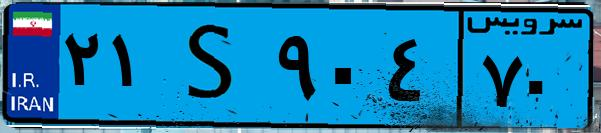0: (330, 28, 385, 110), (525, 38, 570, 115)
1: (110, 28, 158, 98)
2: (57, 26, 110, 100)
4: (385, 28, 445, 110)
7: (475, 38, 525, 113)
9: (270, 28, 330, 110)
S: (158, 12, 270, 120)
